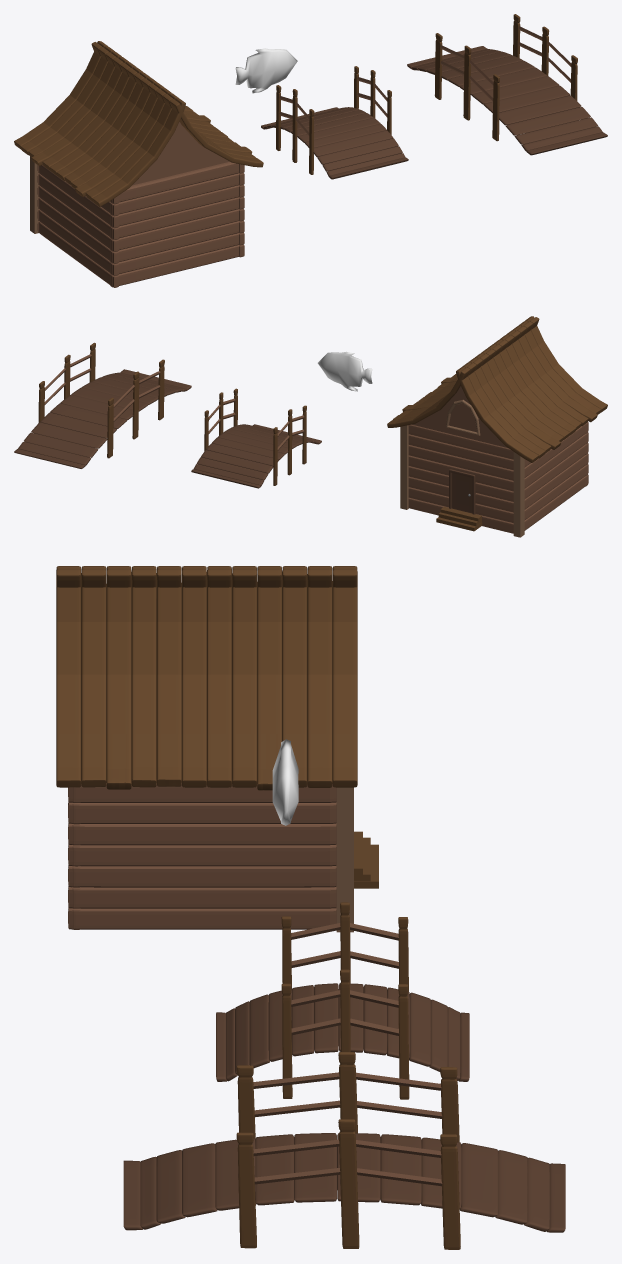
The model's file is bridgefish.fbx.
3 views of the same model, one above another, from view 1: azimuth 30°, elevation 25°; view 2: azimuth 150°, elevation 25°; view 3: azimuth 270°, elevation 25° (orthographic). The views are drawn at different scales.
Visible parts, largest first — view 1: Cube.006, Cube.010, Cube.011, Cube.005, Cube, Cube.007, Plane.003, Plane.002, Cube.014, Cube.001, Cube.013, Cube.002 (+4 smaller); view 2: Cube.006, Cube.003, Cube.011, Cube, Cube.005, Cube.007, Plane, Plane.002, Cube.014, Plane.001, Cube.009, Cube.001 (+7 smaller); view 3: Cube.007, Cube.004, Cube.011, Cube, Cube.013, Cube.006, Cube.014, Cube.002, Circle.004, Circle.005, Cube.008, Cube.001 (+4 smaller).
Part boxes in pixels (x1,y1,x2,y2): Cube.006: (14, 41, 185, 206); Cube.010: (110, 161, 239, 287); Cube.011: (407, 46, 607, 155); Cube.005: (38, 165, 118, 287); Cube: (261, 107, 408, 179); Cube.007: (91, 42, 263, 167); Plane.003: (132, 122, 229, 185); Plane.002: (235, 48, 297, 93); Cube.014: (434, 33, 499, 141); Cube.001: (276, 85, 314, 174); Cube.013: (513, 14, 577, 100); Cube.002: (354, 66, 391, 134); Cube.006: (456, 316, 607, 462); Cube.003: (408, 424, 513, 533); Cube.011: (14, 369, 191, 468); Cube: (191, 424, 321, 488); Cube.005: (524, 422, 588, 530); Cube.007: (387, 317, 539, 427); Plane: (412, 386, 508, 448); Plane.002: (317, 351, 372, 391); Cube.014: (107, 359, 164, 458); Plane.001: (449, 469, 475, 514); Cube.009: (513, 452, 524, 537); Cube.001: (273, 405, 306, 485); Cube.007: (56, 566, 357, 790); Cube.004: (68, 783, 336, 929); Cube.011: (123, 1133, 565, 1232); Cube: (216, 983, 469, 1081); Cube.013: (236, 1119, 460, 1249); Cube.006: (56, 569, 357, 587); Cube.014: (236, 1052, 459, 1142); Cube.002: (281, 969, 409, 1099); Circle.004: (253, 1139, 442, 1186); Circle.005: (253, 1072, 442, 1118); Cube.008: (336, 787, 353, 932); Cube.001: (281, 902, 408, 991).
Bounding box in the file's own units: 7313 × 2252 × 3412.
